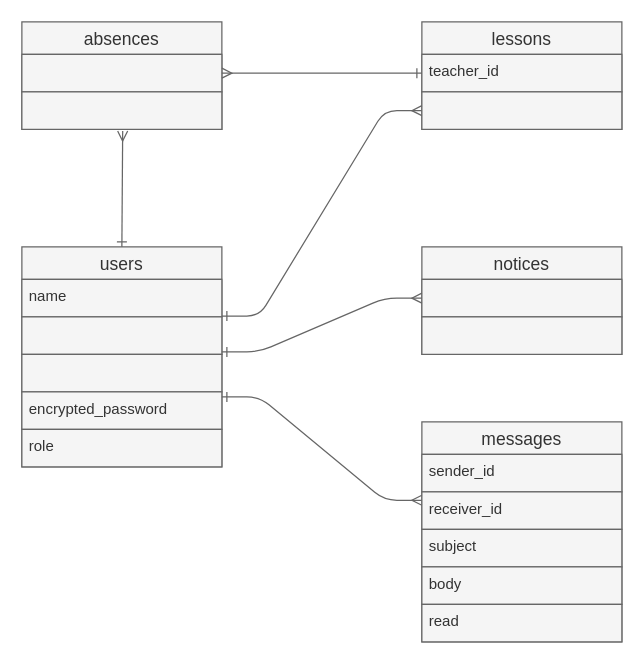
The diagram is 644 pixels wide and 668 high, and some of its shapes have lost their labels. Here are the shapes that lost their labels. From the top down, the centre of each, then its label:
the point at 121,72: user_id
the point at 121,110: lesson_id
the point at 521,110: start_time
the point at 521,297: user__id
the point at 121,335: name_kana
the point at 521,335: content
the point at 121,372: email
